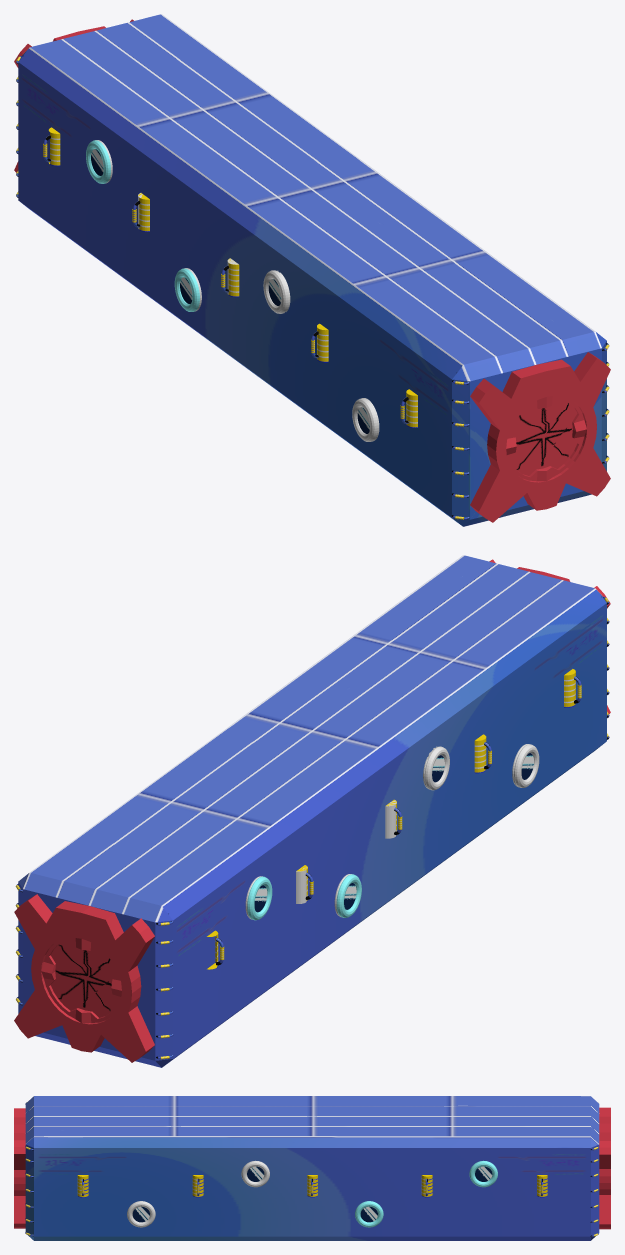
Rendered from ThinPlatform1.fbx.
The picture shows the model from 3 angles, top to bottom: view 1: azimuth 30°, elevation 25°; view 2: azimuth 150°, elevation 25°; view 3: azimuth 270°, elevation 25°; orthographic projection. The views are drawn at different scales.
Parts seen in each view (by area): view 1: Platform2, Platform2Dock1; view 2: Platform2, Platform2Dock2; view 3: Platform2, Platform2Dock2, Platform2Dock1, Torus.003, Torus.006, Torus.002, Torus.007, Cylinder.009, Cylinder.010, Cylinder.007, Cylinder.016, Cylinder.017 (+2 smaller).
Boxes of the visible parts, x1,y1,x2,y2 form: Platform2: [18, 14, 606, 526]; Platform2Dock1: [470, 352, 610, 522]; Platform2: [18, 555, 606, 1067]; Platform2Dock2: [14, 894, 154, 1062]; Platform2: [25, 1096, 599, 1240]; Platform2Dock2: [599, 1107, 610, 1229]; Platform2Dock1: [14, 1108, 25, 1228]; Torus.003: [241, 1160, 269, 1187]; Torus.006: [355, 1201, 383, 1227]; Torus.002: [469, 1160, 497, 1187]; Torus.007: [127, 1201, 155, 1227]; Cylinder.009: [192, 1175, 203, 1197]; Cylinder.010: [77, 1175, 88, 1197]; Cylinder.007: [421, 1175, 432, 1197]; Cylinder.016: [360, 1206, 377, 1222]; Cylinder.017: [132, 1206, 149, 1222].
Bounding box in the file's own units: 232 × 201 × 1040.
5 materials, 4 textured.
